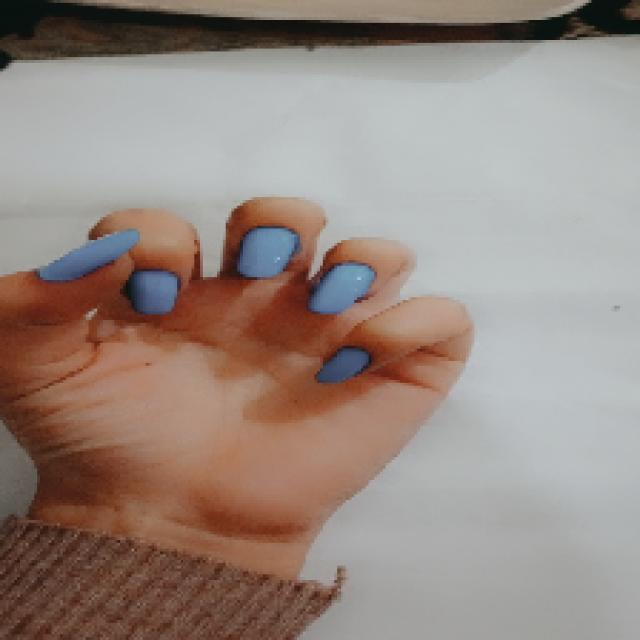Nail: (38, 229, 140, 282), (309, 262, 375, 314), (236, 227, 298, 278), (128, 270, 179, 314), (316, 348, 370, 382)
